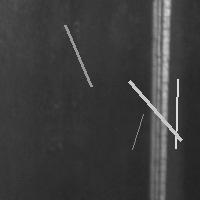scratches: (146, 1, 173, 199), (124, 76, 186, 145), (60, 20, 96, 91), (170, 74, 182, 153), (127, 109, 148, 154)
